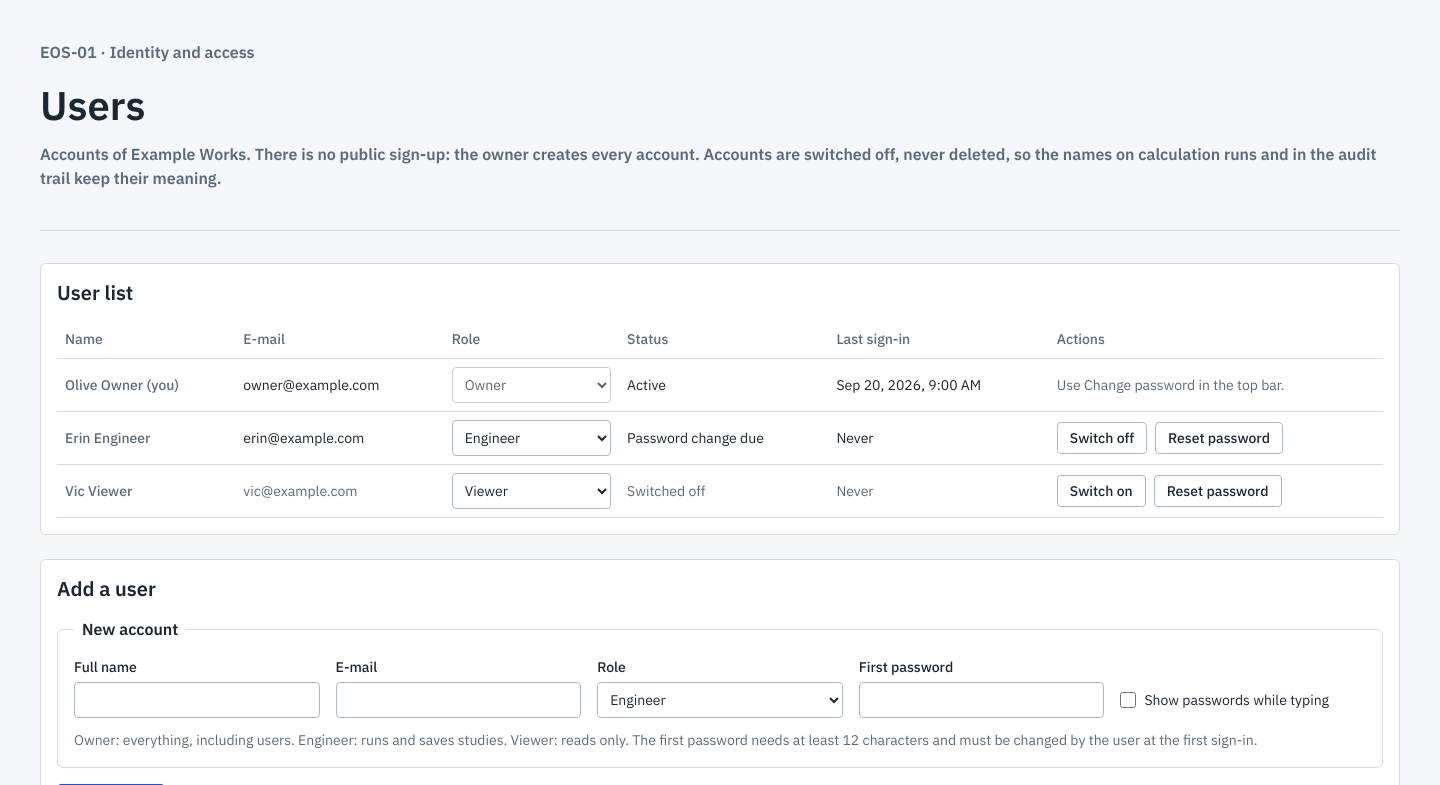
UsersPage › switches an account off and says that the sessions were closed
Click the button "Switch off" at (1102, 438), box [1057,422,1147,454]
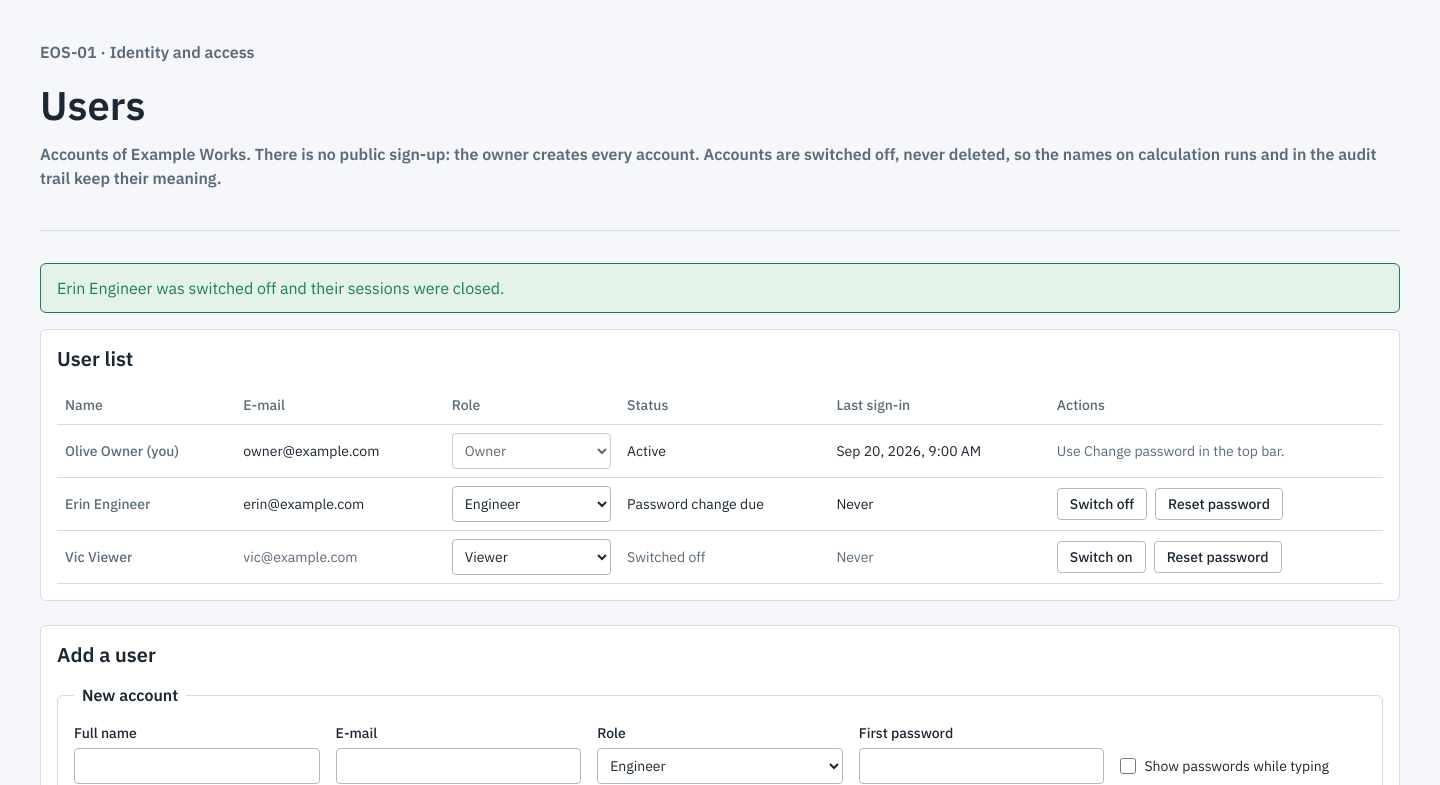
Check: the message shows "was switched off", box [57,278,504,298]
